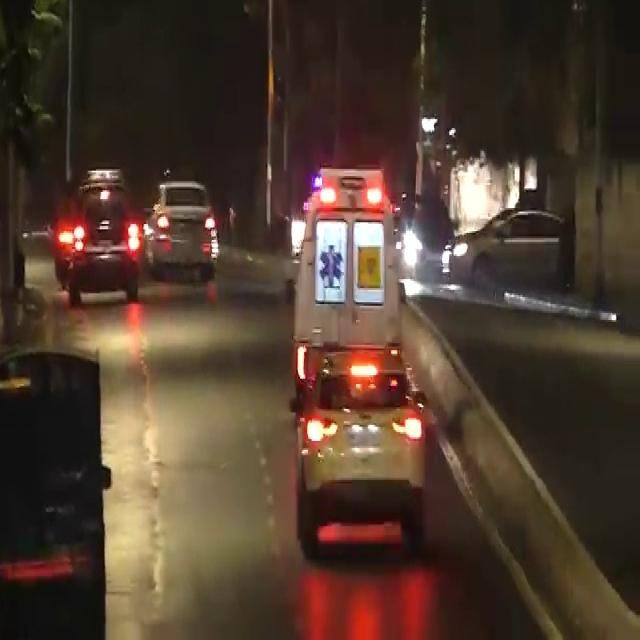ambulance: (299, 133, 442, 395)
